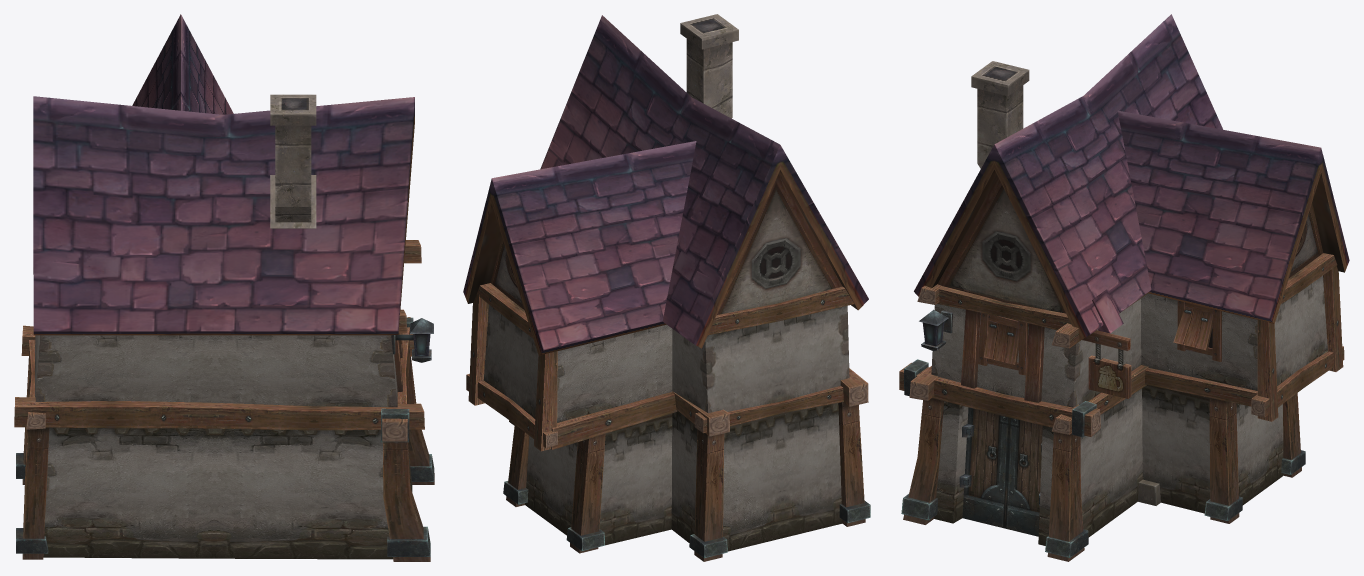
Rendered from building_city_zhuchengjiuguan.FBX.
3 views of the same model, side by side, from view 1: azimuth 30°, elevation 25°; view 2: azimuth 150°, elevation 25°; view 3: azimuth 270°, elevation 25° (orthographic). The views are drawn at different scales.
Parts seen in each view (by area): view 1: zhucheng_city_zhuchengjiuguan; view 2: zhucheng_city_zhuchengjiuguan; view 3: zhucheng_city_zhuchengjiuguan.
Part boxes in pixels (x1=…): zhucheng_city_zhuchengjiuguan: x1=14, y1=14, x2=434, y2=561; zhucheng_city_zhuchengjiuguan: x1=463, y1=14, x2=870, y2=561; zhucheng_city_zhuchengjiuguan: x1=899, y1=14, x2=1349, y2=561.
Bounding box in the file's own units: 10.34 × 10.77 × 10.77.
